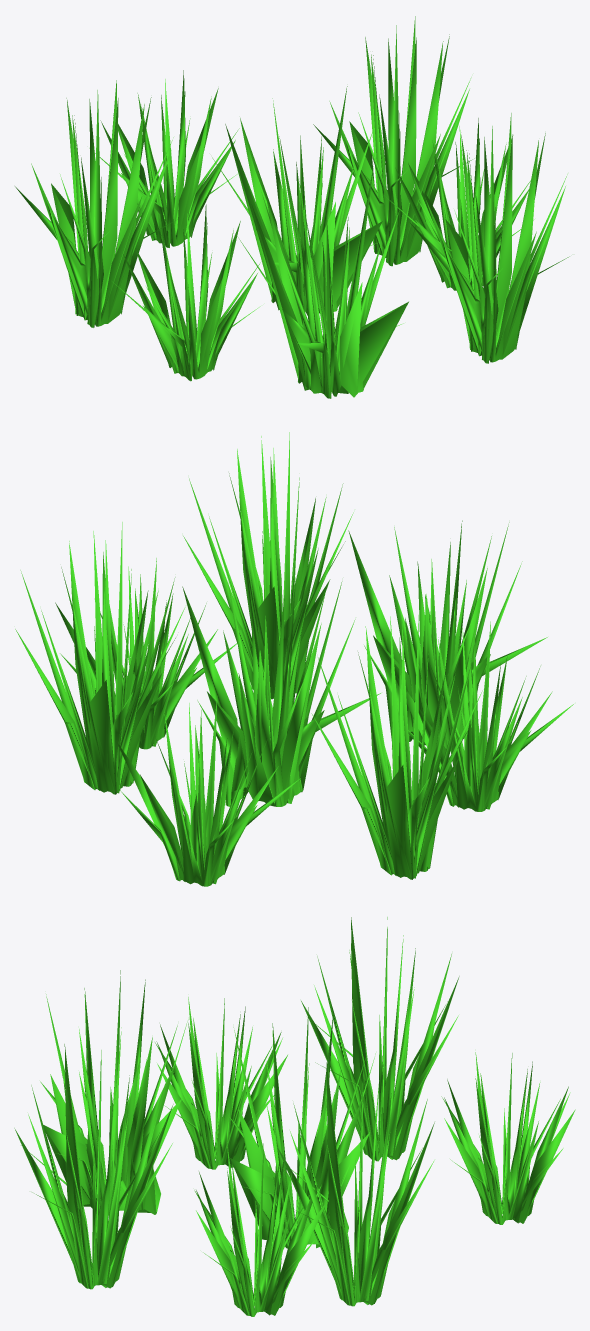
Rendered from Pastito_LOD_001.fbx.
The picture shows the model from 3 angles, top to bottom: view 1: azimuth 30°, elevation 25°; view 2: azimuth 150°, elevation 25°; view 3: azimuth 270°, elevation 25°; orthographic projection. The views are drawn at different scales.
Parts seen in each view (by area): view 1: Pastito_LOD0; view 2: Pastito_LOD0; view 3: Pastito_LOD0.
Boxes of the visible parts, x1,y1,x2,y2 form: Pastito_LOD0: (15,16,569,398); Pastito_LOD0: (15,432,573,886); Pastito_LOD0: (14,917,575,1316).
Size of what is drawn, in the model's own units: 261 by 138 by 286.
Materials: 1 (1 with a texture image).
